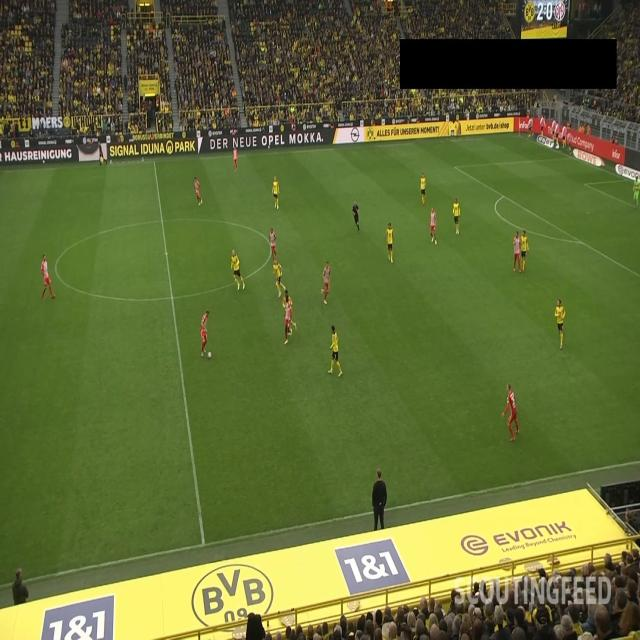ball: (207, 350, 212, 359)
